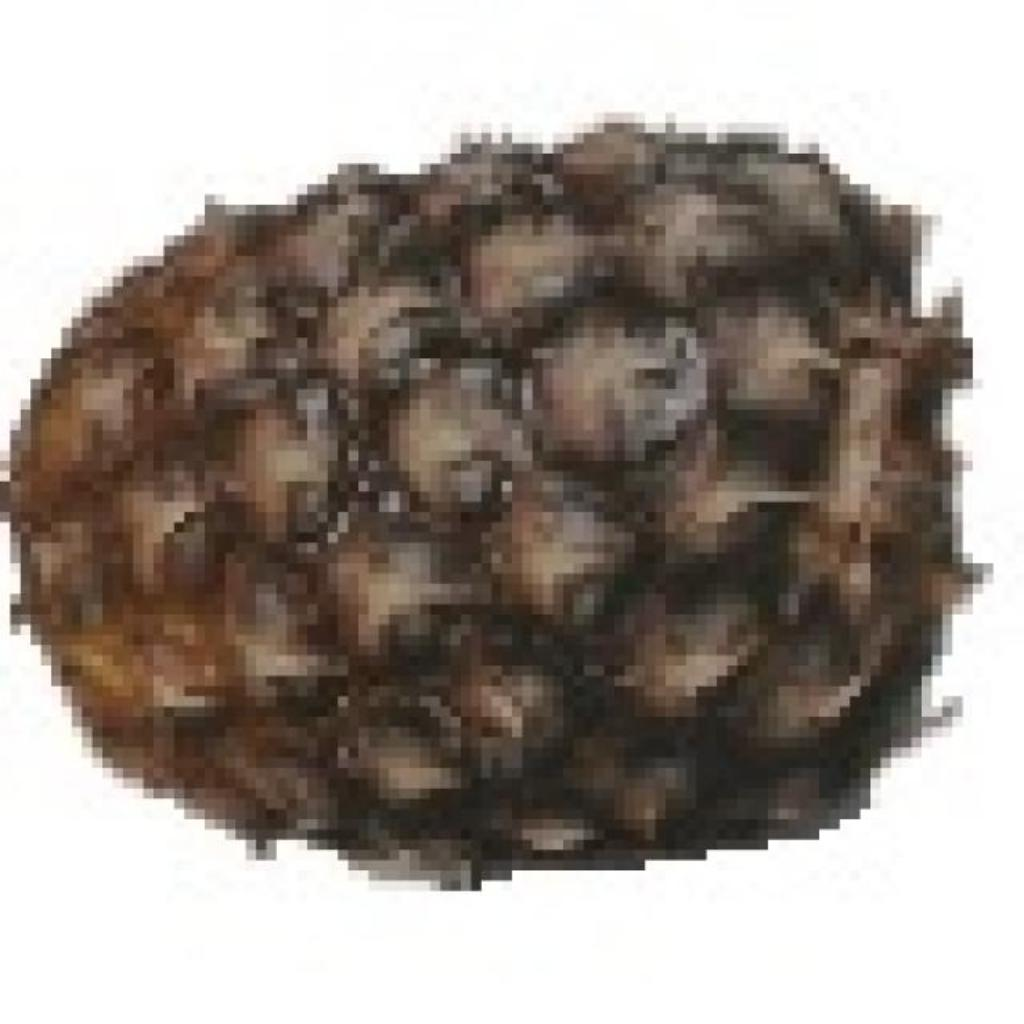pineapple: (0, 113, 952, 860)
